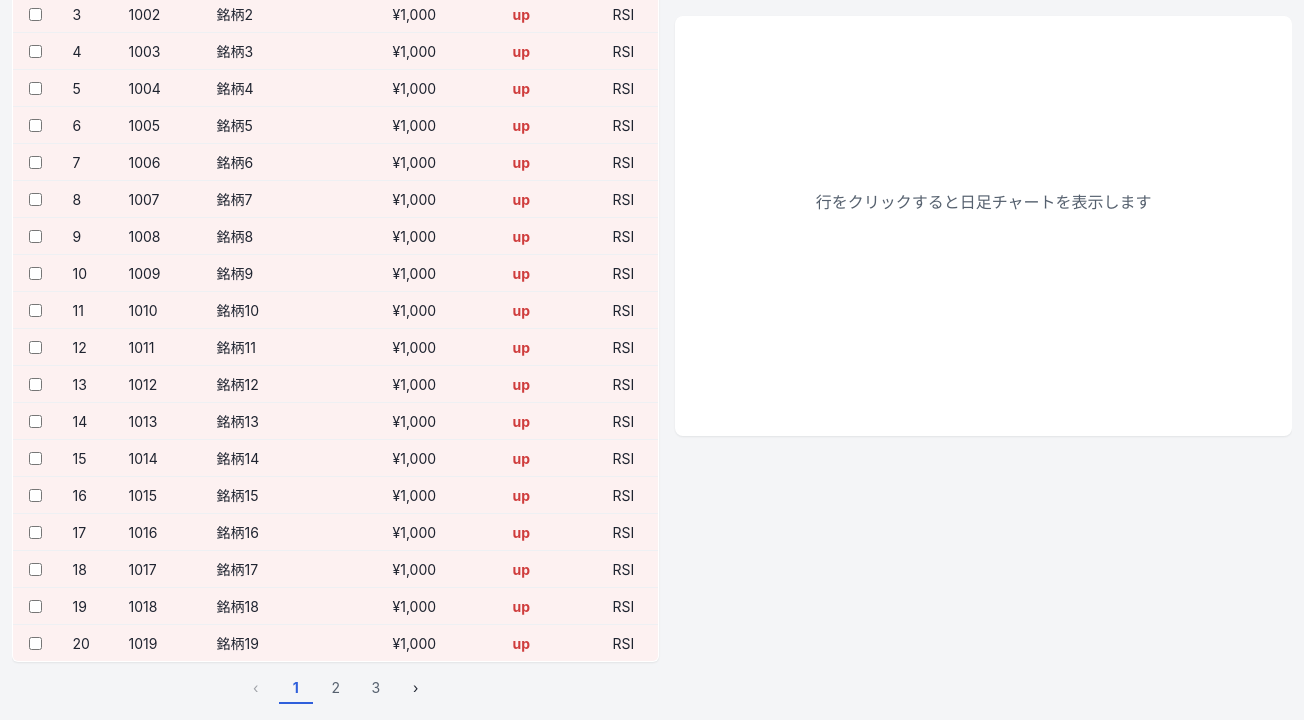
ScreeningResultsPanel row numbers › continues numbering across pages
(page scrolled)
What coordinates should you click on to do the following:
click the button named "次のページ"
I would click on:
 (416, 687)
Its box is [399,670,433,704].
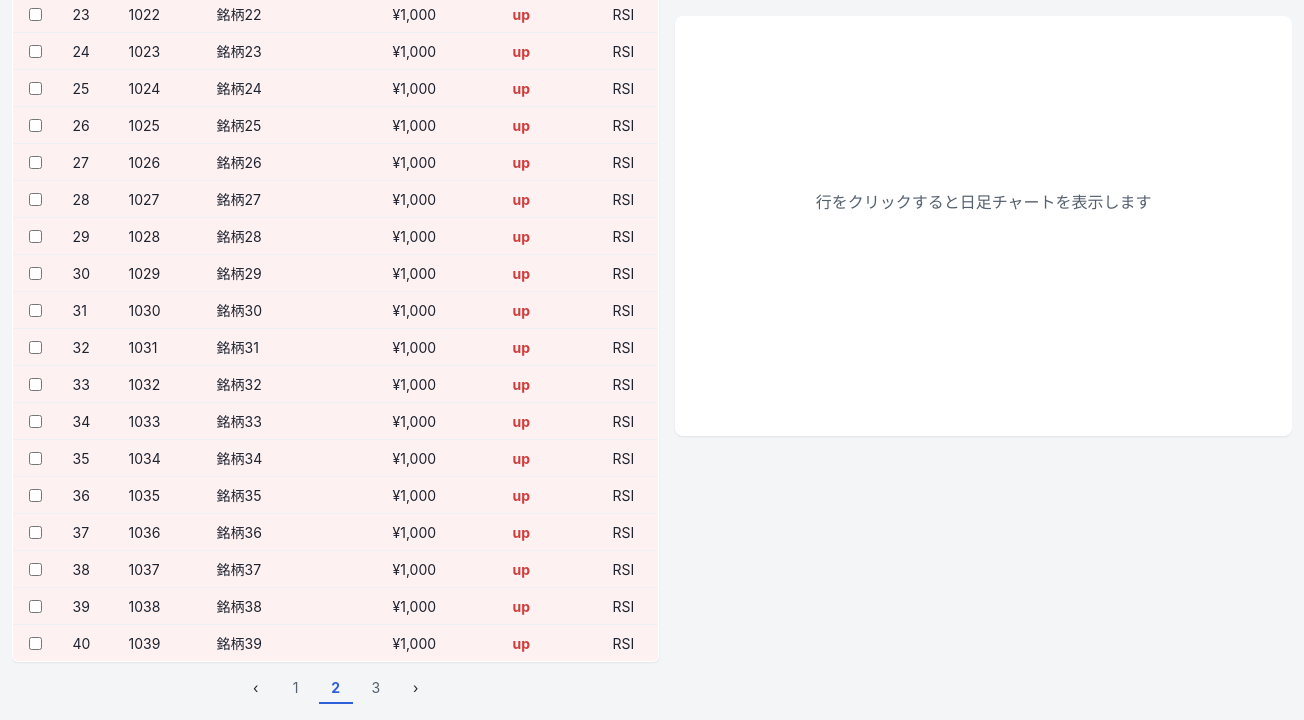
What coordinates should you click on to do the following:
click the button named "次のページ"
I would click on:
 (416, 687)
Its box is [399,670,433,704].
(page scrolled)
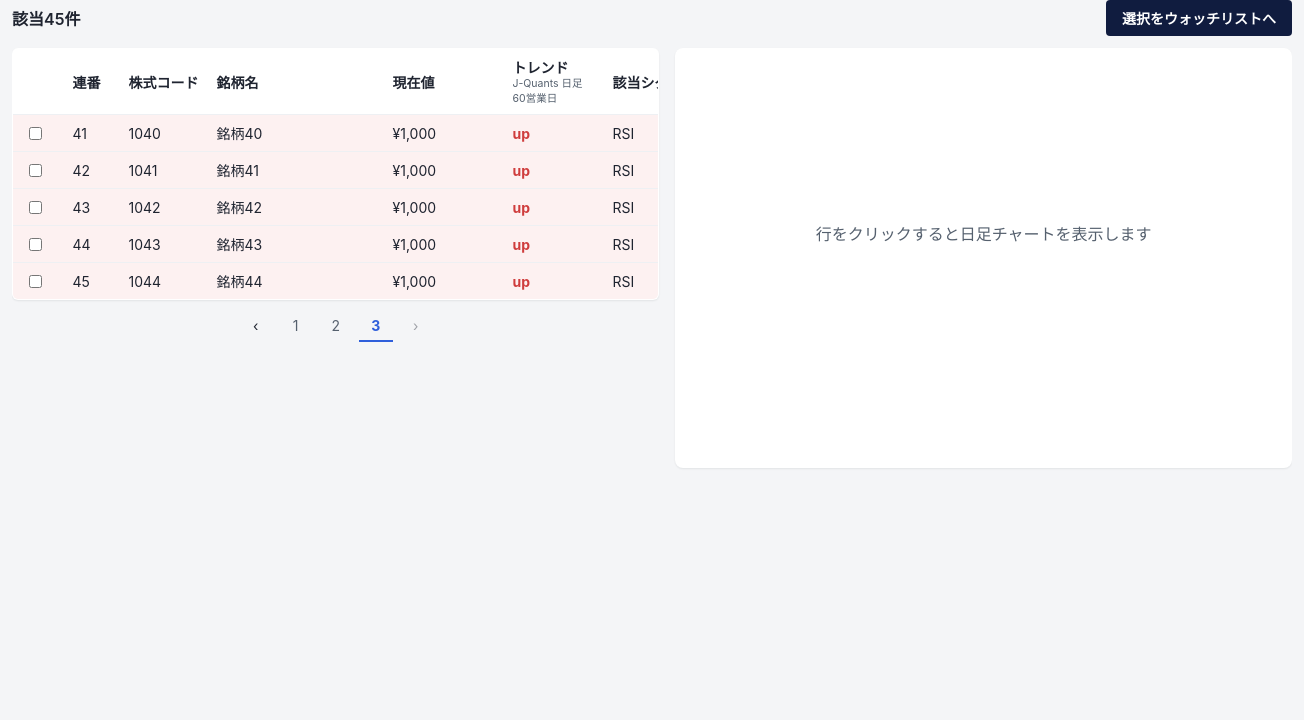
Expected: the cell "41" is shown, [60,115,116,152]
Expected: the cell "45" is shown, [60,263,116,300]
